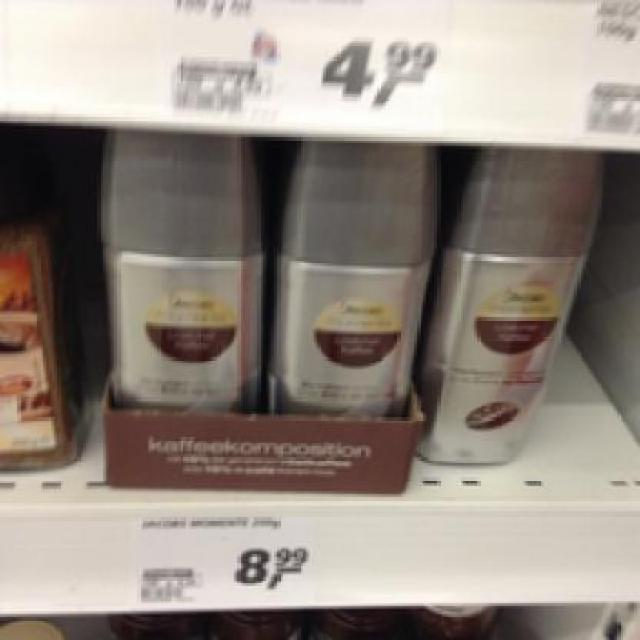Coffee: (426, 137, 600, 466), (91, 126, 258, 406), (272, 136, 428, 412)
